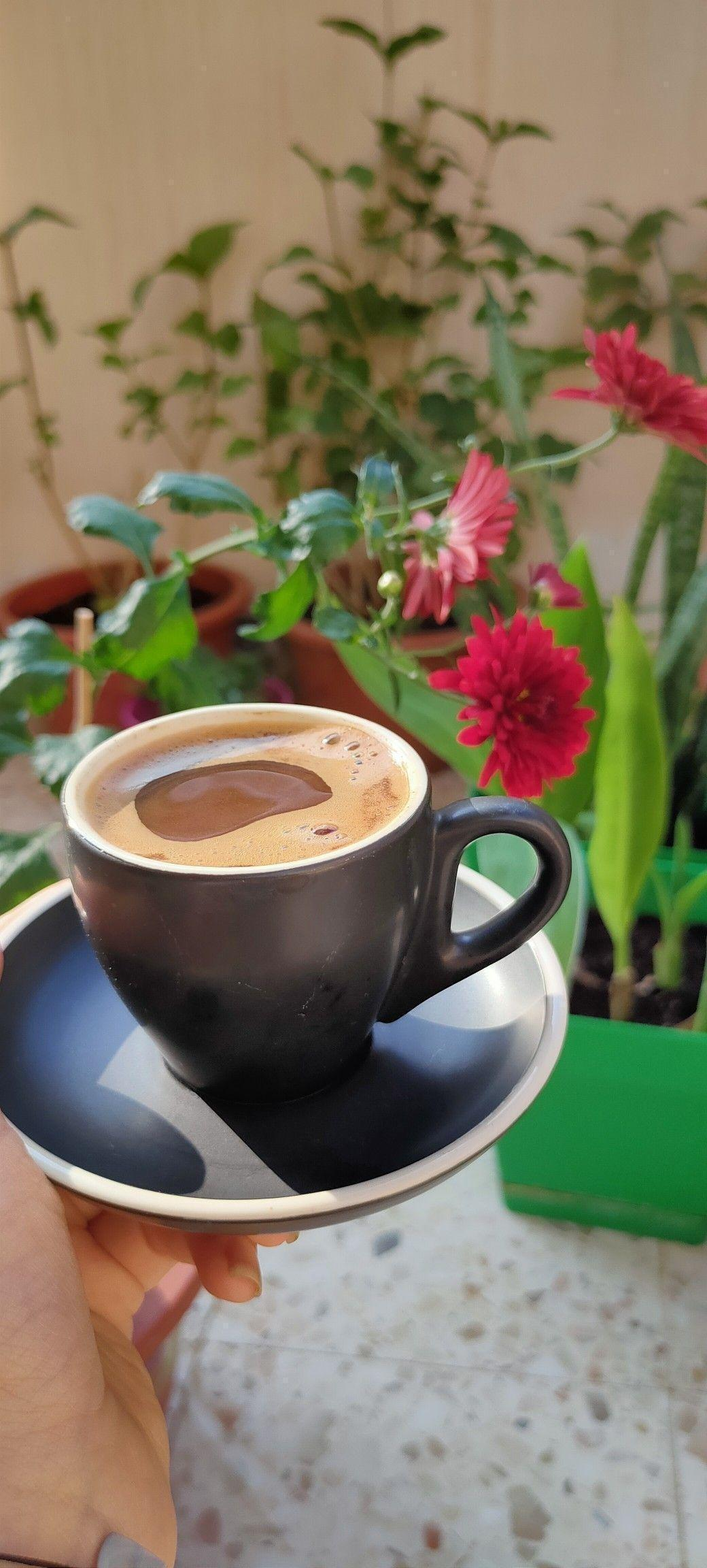cup-handle: (53, 698, 573, 1107)
